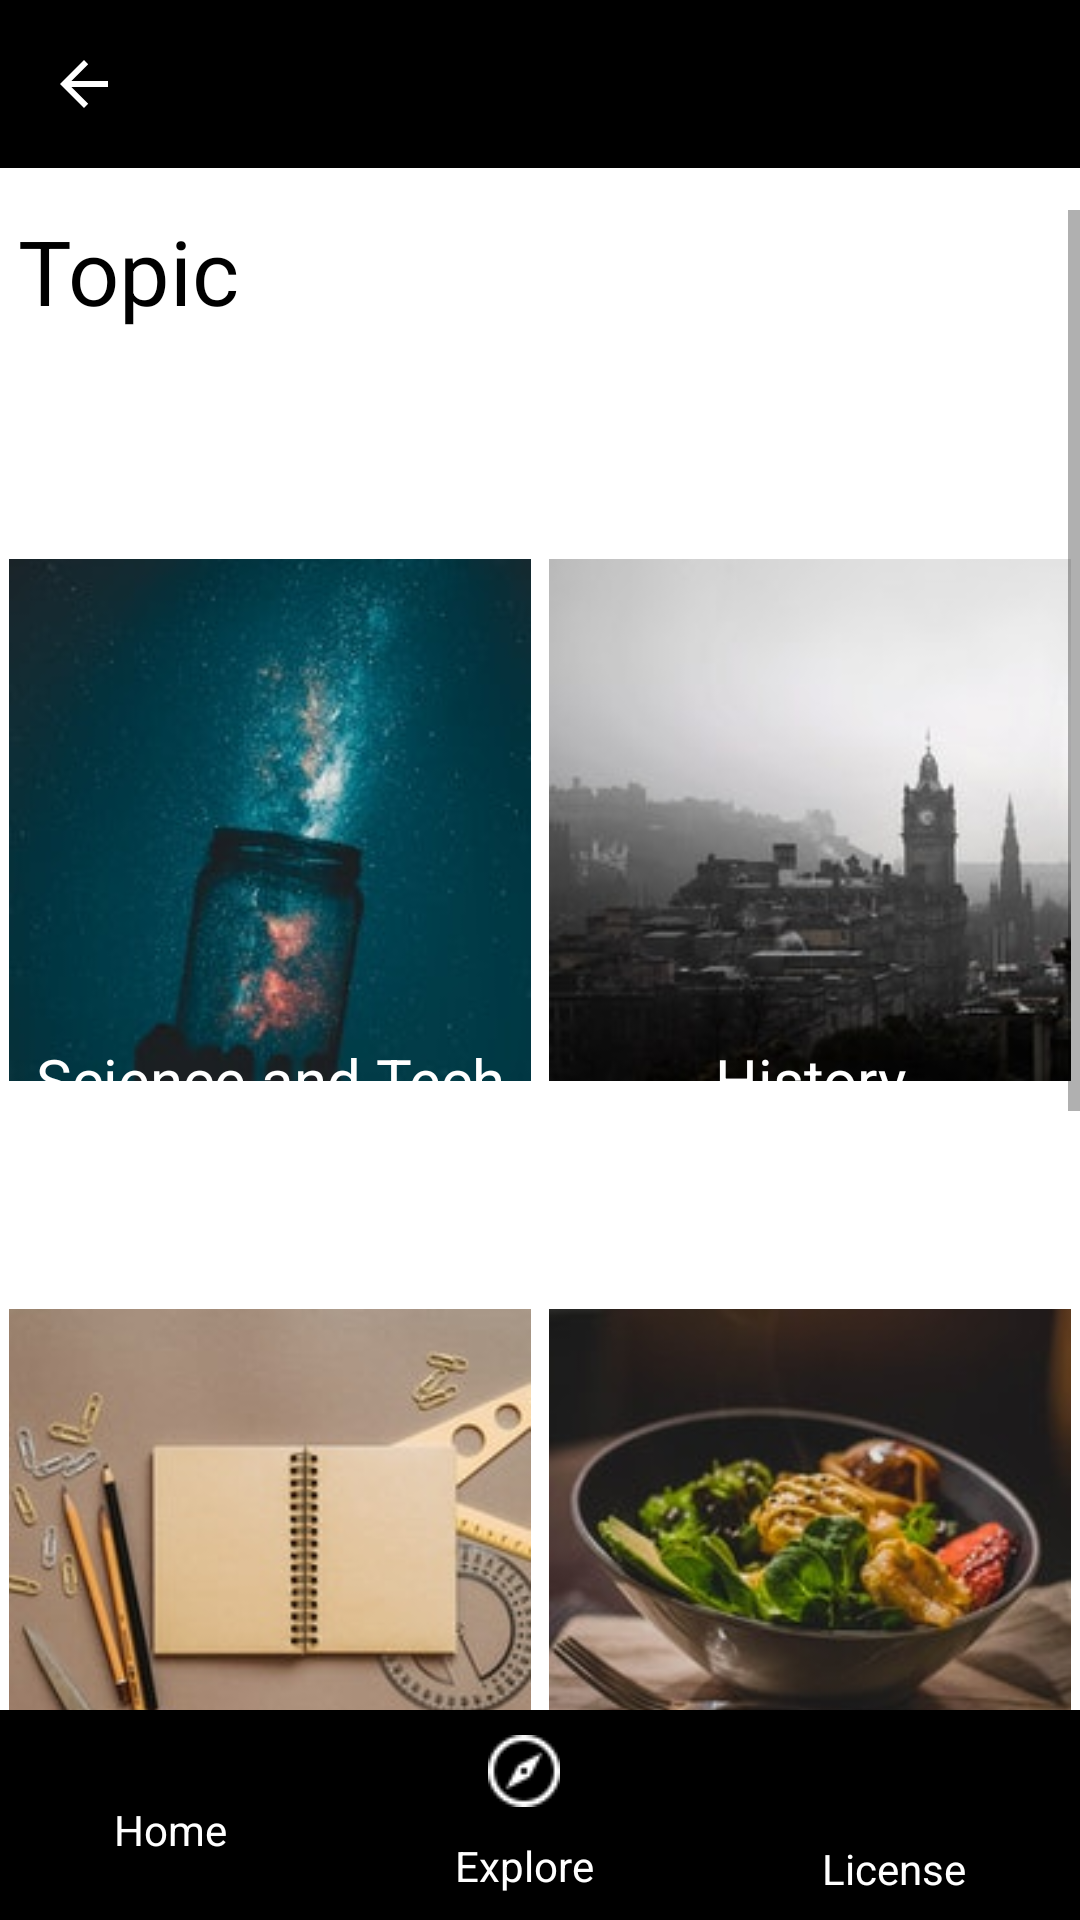

Screen size 1080 x 1920. Icon name, then its box in pixels as (x1,y1,x2,y2):
compass: (488,1735,560,1807)
